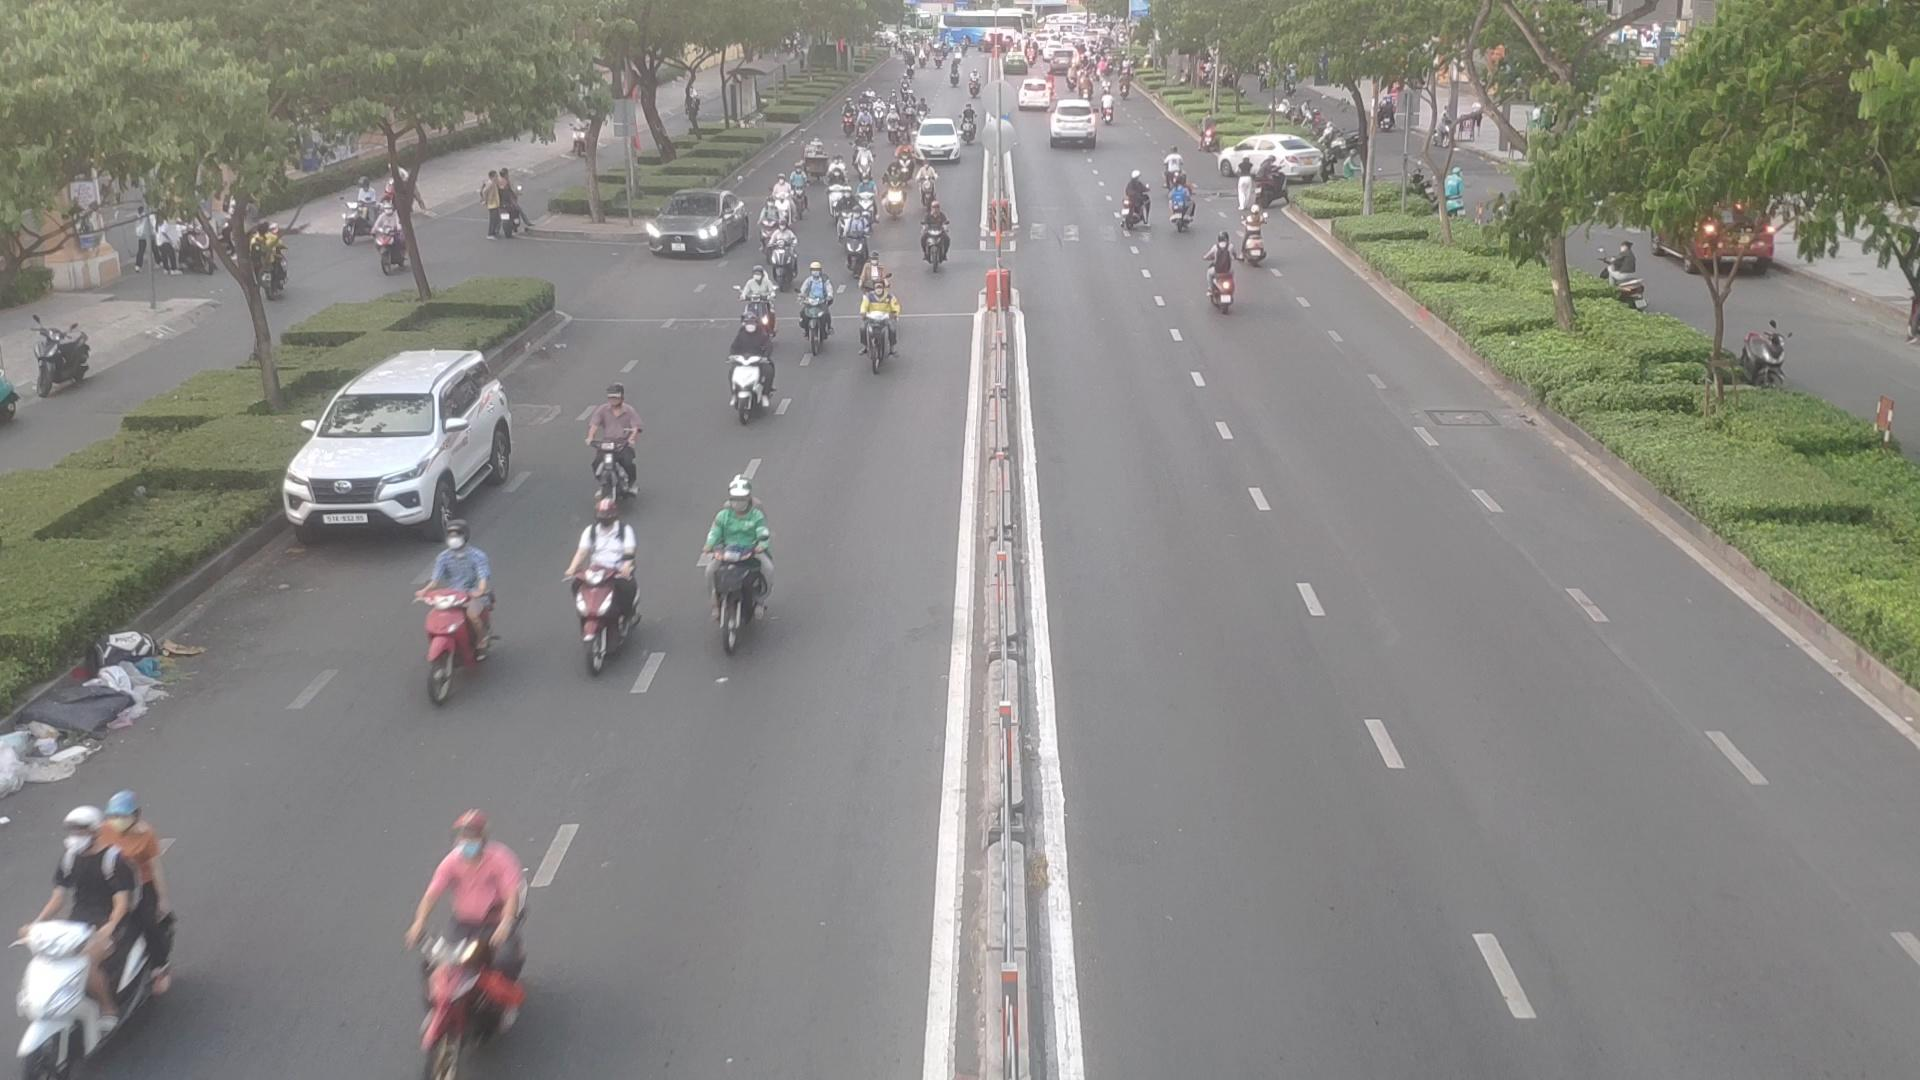car: (281, 345, 520, 538), (645, 189, 754, 258), (1208, 137, 1324, 185), (914, 121, 964, 162)
motorbike: (13, 771, 164, 1080), (392, 800, 543, 1069), (411, 491, 491, 705), (553, 493, 649, 651), (705, 475, 773, 644), (584, 386, 644, 502), (858, 272, 895, 372), (728, 314, 760, 409), (738, 269, 781, 338), (920, 203, 957, 280), (800, 264, 833, 345), (1207, 235, 1236, 311), (767, 222, 798, 289), (1168, 179, 1197, 233), (1121, 169, 1147, 227), (787, 164, 814, 215), (845, 210, 869, 266), (754, 204, 779, 253), (1244, 207, 1265, 257), (771, 179, 793, 224), (884, 166, 906, 204), (894, 138, 915, 178), (860, 177, 880, 215), (855, 146, 874, 183), (916, 162, 938, 196), (837, 193, 855, 232), (823, 170, 837, 210), (1167, 141, 1178, 179)
